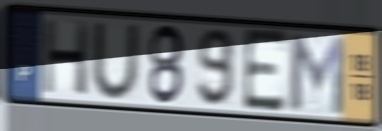8: (147, 21, 185, 107)
9: (195, 26, 237, 109)
E: (241, 26, 291, 116)
H: (41, 16, 91, 98)
M: (287, 30, 346, 118)
U: (90, 21, 141, 102)
